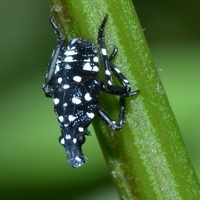insect: (43, 14, 138, 167), (98, 89, 120, 122)
